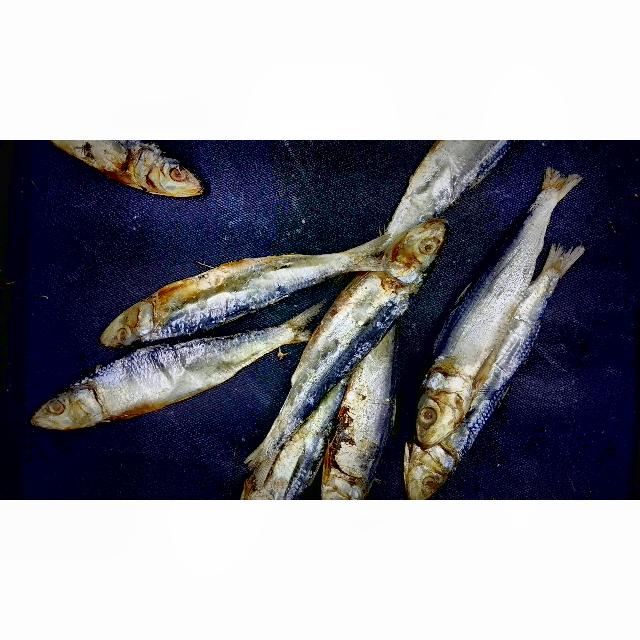Grade_B_Body: (436, 238, 542, 368), (168, 248, 298, 340), (291, 288, 401, 380), (97, 340, 239, 411), (332, 357, 403, 470)
Grade_B_Head: (19, 366, 106, 442), (72, 283, 153, 352), (377, 211, 463, 275), (404, 375, 475, 447), (391, 436, 469, 500), (136, 140, 206, 203)
Grade_B_Tail: (284, 201, 396, 291), (230, 393, 309, 485), (513, 253, 607, 323), (216, 313, 328, 364), (510, 169, 587, 231)
